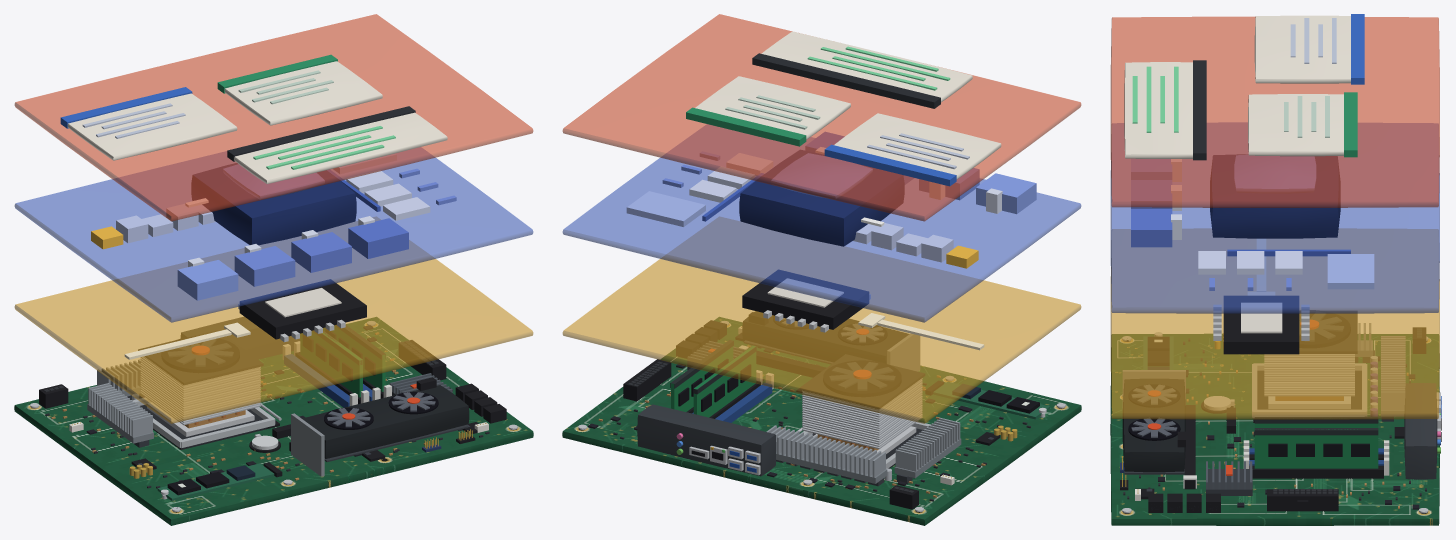
Rendered from software_computer.glb.
3 renders of one model, left to right at view 1: azimuth 30°, elevation 25°; view 2: azimuth 150°, elevation 25°; view 3: azimuth 270°, elevation 25°, orthographic. The views are drawn at different scales.
Parts seen in each view (by area): view 1: slab_firmware_geo, slab_apps_geo, slab_os_geo, board_pcb, cpu_geo, kernel_geo, gpu_geo, app_terminal_geo, drivers_geo, app_browser_geo, app_editor_geo, uefi_geo (+8 smaller); view 2: slab_firmware_geo, slab_apps_geo, slab_os_geo, board_pcb, kernel_geo, cpu_geo, app_terminal_geo, app_browser_geo, vrm_geo, gpu_geo, app_editor_geo, net_geo (+8 smaller); view 3: slab_firmware_geo, slab_apps_geo, slab_os_geo, board_pcb, kernel_geo, cpu_geo, ram_geo, app_terminal_geo, app_browser_geo, gpu_geo, app_editor_geo, uefi_geo (+8 smaller).
Part boxes in pixels (box(x1,y1,x2,y2)): slab_firmware_geo: box(14, 217, 533, 423); slab_apps_geo: box(14, 14, 533, 221); slab_os_geo: box(14, 147, 533, 322); board_pcb: box(14, 317, 533, 525); cpu_geo: box(132, 330, 281, 449); kernel_geo: box(191, 163, 356, 245); gpu_geo: box(289, 377, 469, 476); app_terminal_geo: box(227, 106, 447, 184); drivers_geo: box(177, 216, 408, 300); app_browser_geo: box(60, 87, 237, 160); app_editor_geo: box(217, 54, 382, 125); uefi_geo: box(124, 279, 366, 359); slab_firmware_geo: box(562, 217, 1081, 423); slab_apps_geo: box(562, 14, 1081, 221); slab_os_geo: box(562, 124, 1081, 322); board_pcb: box(562, 317, 1081, 525); kernel_geo: box(739, 150, 904, 246); cpu_geo: box(795, 354, 930, 468); app_terminal_geo: box(752, 31, 972, 108); app_browser_geo: box(824, 113, 1001, 186); vrm_geo: box(766, 417, 961, 509); gpu_geo: box(739, 311, 919, 377); app_editor_geo: box(686, 76, 850, 146); net_geo: box(637, 404, 776, 476); slab_firmware_geo: box(1110, 228, 1439, 419); slab_apps_geo: box(1110, 16, 1439, 207); slab_os_geo: box(1110, 122, 1439, 313); board_pcb: box(1110, 334, 1439, 525); kernel_geo: box(1210, 154, 1340, 238); cpu_geo: box(1252, 313, 1366, 417); ram_geo: box(1243, 417, 1389, 478); app_terminal_geo: box(1124, 60, 1206, 160); app_browser_geo: box(1254, 14, 1364, 84); gpu_geo: box(1122, 370, 1196, 489); app_editor_geo: box(1248, 92, 1357, 157); uefi_geo: box(1213, 239, 1309, 354).
Size of the model in its own units: 3.2 by 2.68 by 2.41.
4 materials, 1 textured.
